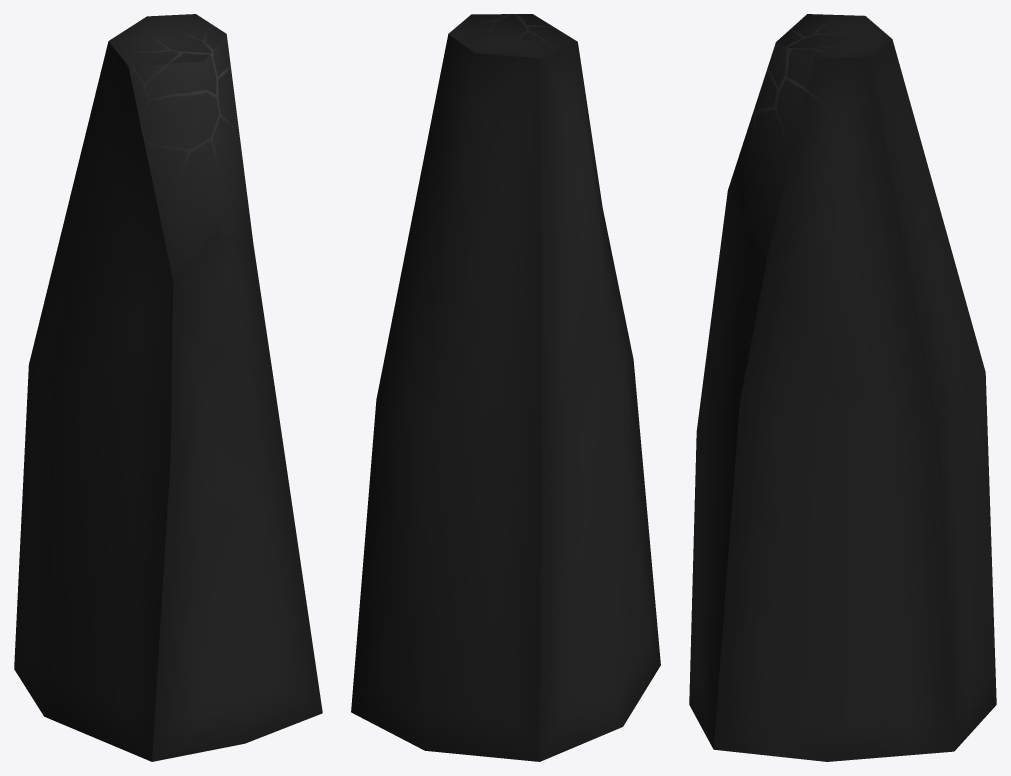
The model's file is Rock5.fbx.
3 renders of one model, left to right at view 1: azimuth 30°, elevation 25°; view 2: azimuth 150°, elevation 25°; view 3: azimuth 270°, elevation 25°, orthographic.
Parts seen in each view (by area): view 1: Rock 5; view 2: Rock 5; view 3: Rock 5.
Part boxes in pixels (x1,y1,x2,y2): Rock 5: [14, 14, 322, 761]; Rock 5: [351, 14, 660, 761]; Rock 5: [689, 14, 996, 761].
Size of the model in its own units: 28.6 by 31.35 by 75.21.
